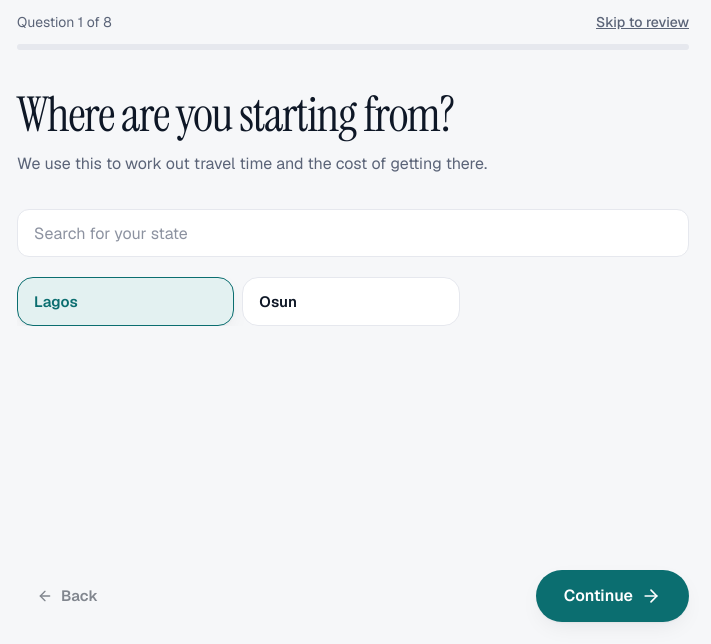
Test case: QuizPage › asks one question at a time and tracks progress
This screenshot has width=711, height=644.
expect the heading "Where are you starting from?" is shown: met, box [17,83,454,146]
expect the text "Question 1 of 8" is shown: met, box [17,12,112,32]
Click the button "Osun" at (351, 302), box [242,277,460,326]
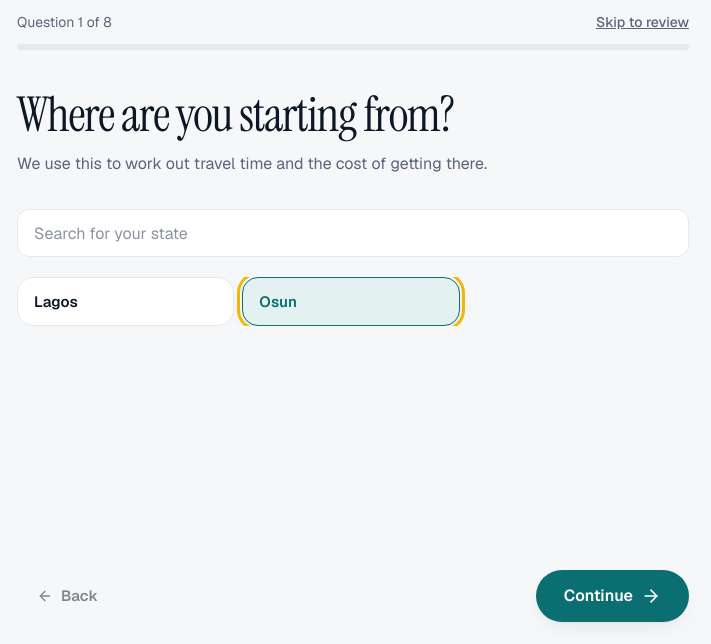
Click the button "Continue" at (612, 596), box [536,570,689,622]
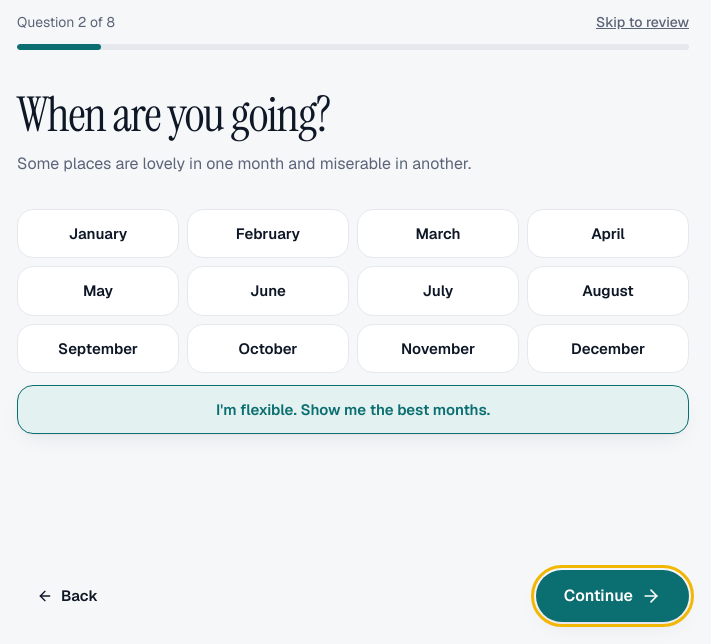
expect the heading "When are you going?" is shown: met, box [17,83,330,146]
expect the text "Question 2 of 8" is shown: met, box [17,12,115,32]
Click the button "Back" at (67, 596), box [17,574,118,618]
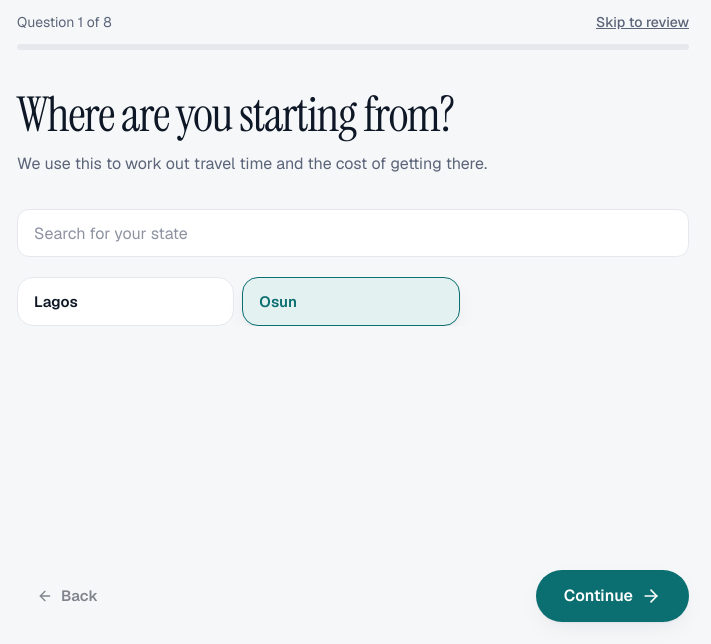
expect the heading "Where are you starting from?" is shown: met, box [17,83,454,146]
